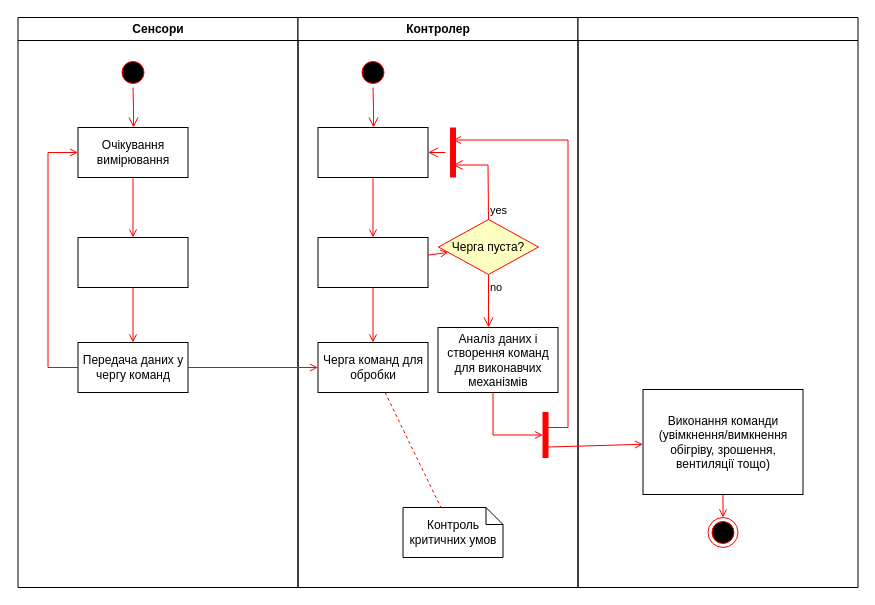
Image size: 875x605. Some labels were removed from this diagram. Here are the shapes that lost their labels. From the top down, the box of each, then its label:
(317, 126, 428, 178): Очікування
(77, 236, 188, 288): Запуск циклу вимірювання
(317, 236, 428, 288): Перевірка нових даних із сенсорів
(577, 16, 858, 588): Виконавчі механізми
